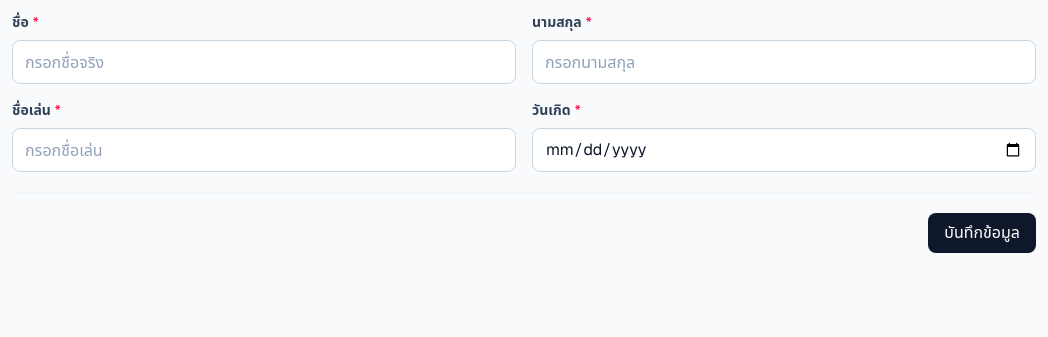
Scenario: StudentForm › shows an accessible error for a future birth date
This screenshot has width=1048, height=337.
Type "2999-01-01" into the date field labelled "วันเกิด".
click(784, 150); type("2999-01-01")  # box [532,128,1036,172]
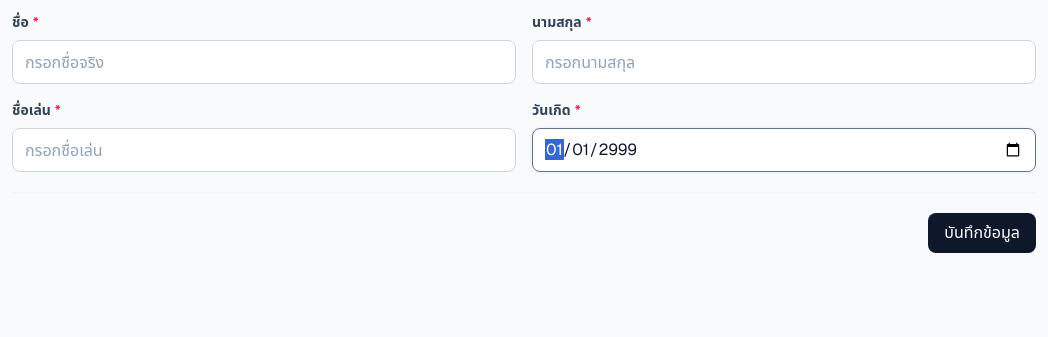
Click the button "บันทึกข้อมูล".
click(982, 233)  # box [928,213,1036,253]
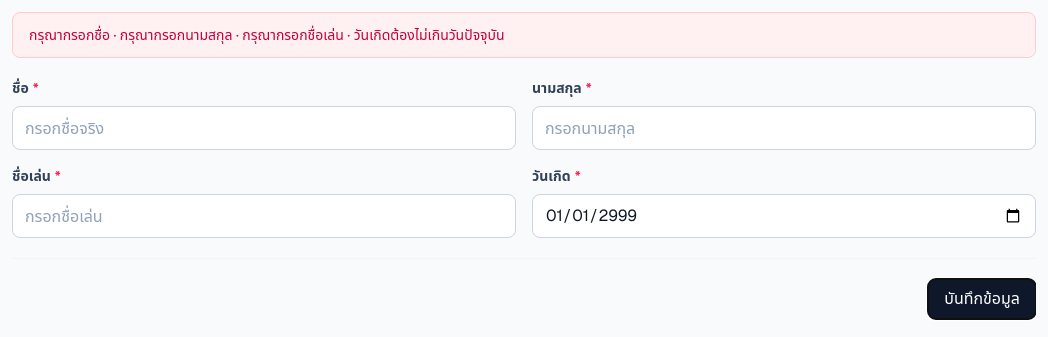
Now the message shows "วันเกิดต้องไม่เกินวันปัจจุบัน", box [29,26,505,44]
